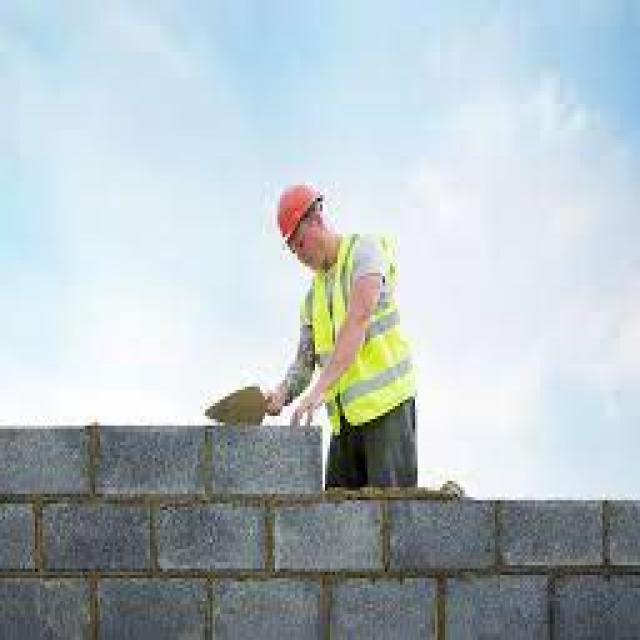Reflective-Jacket: (300, 224, 430, 439)
Safety-Helmet: (265, 172, 330, 260)
